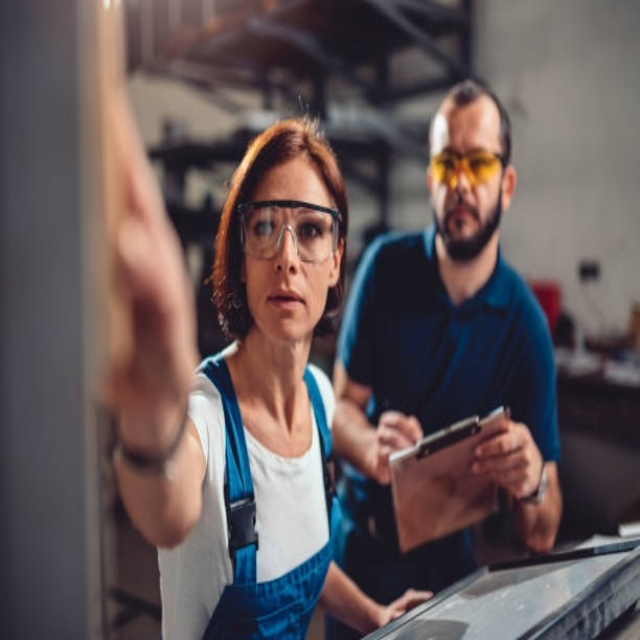Gafas: (238, 202, 342, 262), (429, 149, 504, 189)
Sin_guantes: (94, 48, 199, 451), (471, 412, 538, 500), (371, 409, 424, 485), (379, 586, 436, 624)
Sin_mascara: (264, 282, 311, 339), (440, 198, 482, 251)
